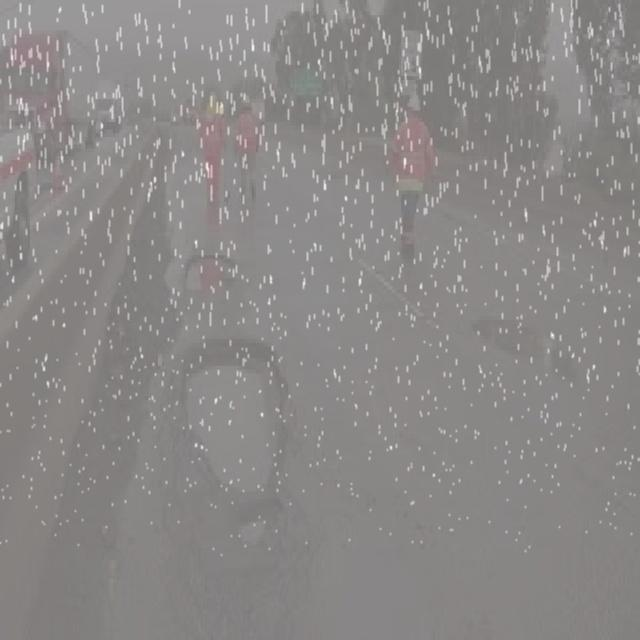Pothole: (168, 328, 303, 503), (215, 506, 281, 561), (178, 244, 240, 300)
